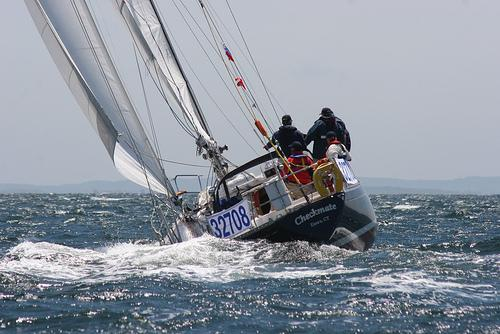Ship: (25, 3, 379, 255)
